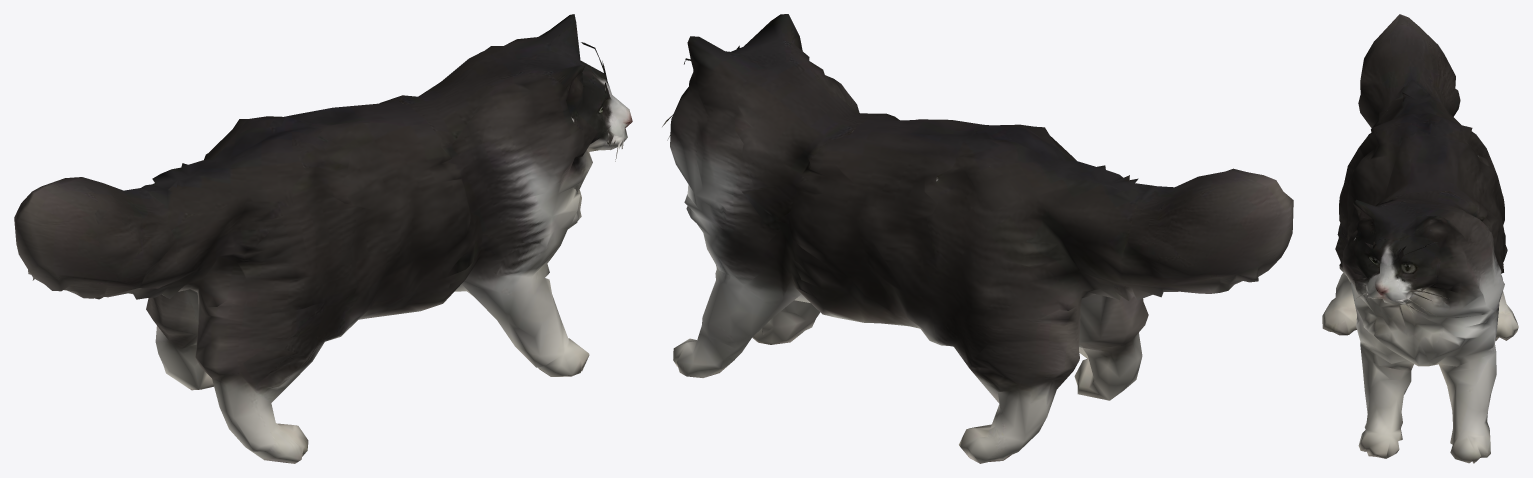
File: MEDIACAT-lo.glb
3 views of the same model, side by side, from view 1: azimuth 30°, elevation 25°; view 2: azimuth 150°, elevation 25°; view 3: azimuth 270°, elevation 25° (orthographic). The views are drawn at different scales.
Parts seen in each view (by area): view 1: tripo_node_fb4ba505-61ba-4666-a621-dc5dc32e7143; view 2: tripo_node_fb4ba505-61ba-4666-a621-dc5dc32e7143; view 3: tripo_node_fb4ba505-61ba-4666-a621-dc5dc32e7143.
Boxes of the visible parts, x1,y1,x2,y2 form: tripo_node_fb4ba505-61ba-4666-a621-dc5dc32e7143: (14, 14, 632, 463); tripo_node_fb4ba505-61ba-4666-a621-dc5dc32e7143: (662, 14, 1293, 463); tripo_node_fb4ba505-61ba-4666-a621-dc5dc32e7143: (1322, 14, 1518, 463).
Bounding box in the file's own units: 2.01 × 0.9992 × 0.6979.
Materials: 1 (1 with a texture image).
